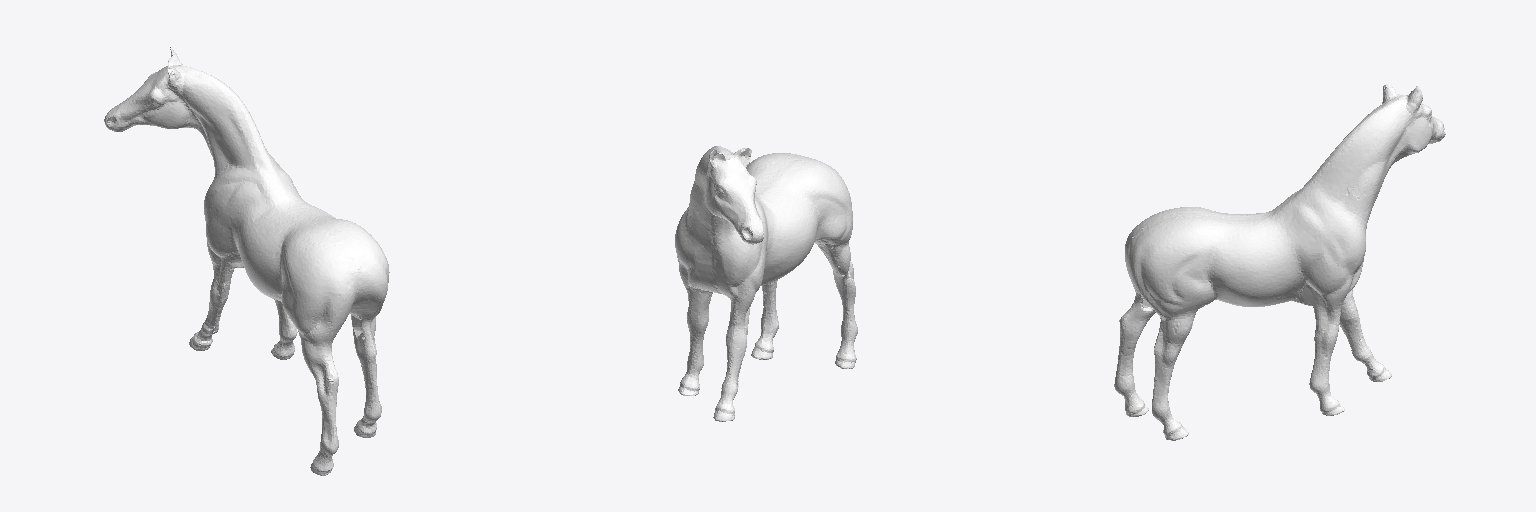
Rendered from horse.obj.
3 renders of one model, left to right at view 1: azimuth 30°, elevation 25°; view 2: azimuth 150°, elevation 25°; view 3: azimuth 270°, elevation 25°, orthographic.
Visible parts, largest first — view 1: Mesh Mesh; view 2: Mesh Mesh; view 3: Mesh Mesh.
Boxes of the visible parts, x1,y1,x2,y2 form: Mesh Mesh: [104, 47, 389, 475]; Mesh Mesh: [675, 146, 857, 421]; Mesh Mesh: [1114, 84, 1445, 440].
Bounding box in the file's own units: 0.084 × 0.1784 × 0.1654.